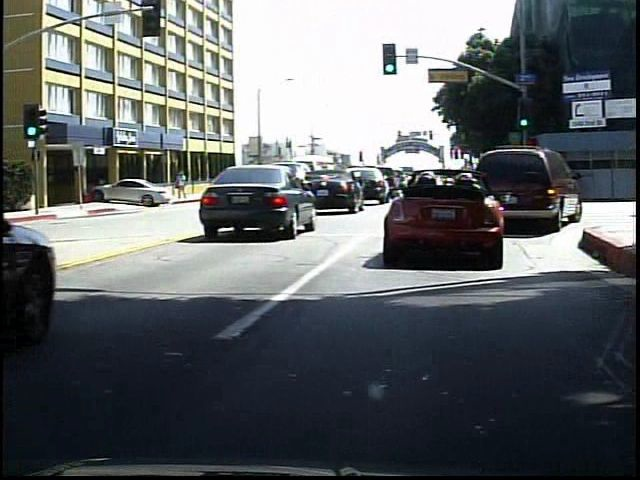person: (172, 169, 186, 203)
